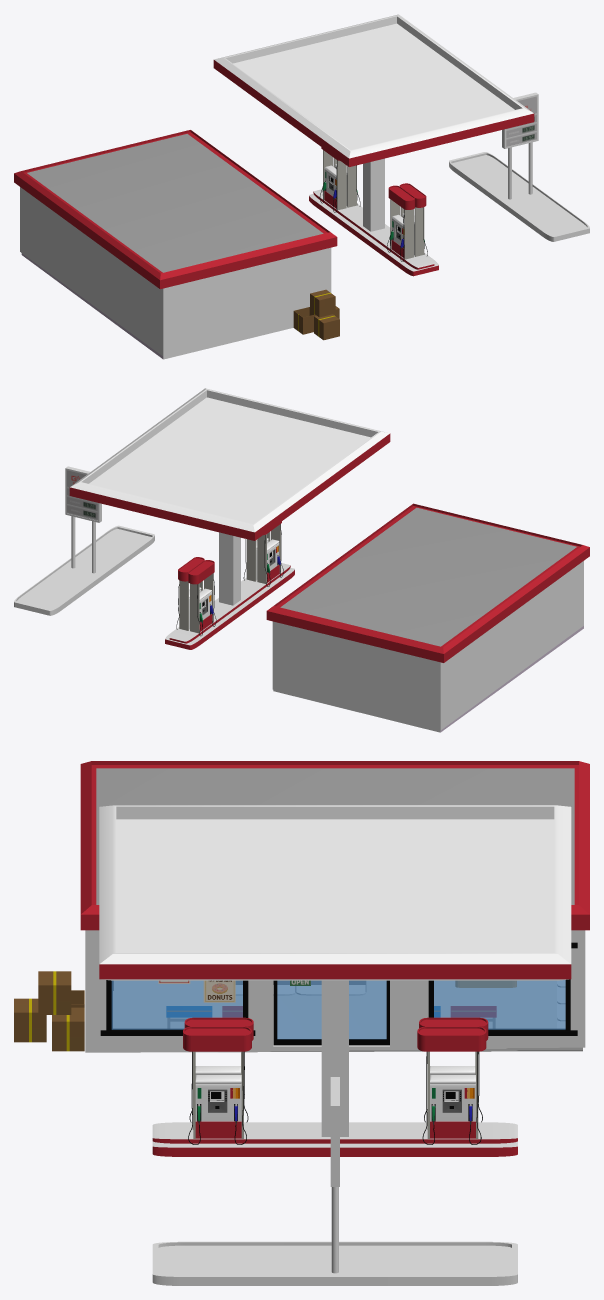
Rendered from building_gas.glb.
3 renders of one model, top to bottom at view 1: azimuth 30°, elevation 25°; view 2: azimuth 150°, elevation 25°; view 3: azimuth 270°, elevation 25°, orthographic. The views are drawn at different scales.
Visible parts, largest first — view 1: Store, Gas_Pumps, Sign, Box_Open; view 2: Store, Gas_Pumps, Sign; view 3: Gas_Pumps, Store, Sign, Box_Open, Door2, Door, Shelf.002, DisplayShelf1, Sign2, DisplayShelf2.
Part boxes in pixels (x1,y1,x2,y2): Store: (14, 130, 337, 359); Gas_Pumps: (213, 14, 534, 276); Sign: (449, 92, 589, 241); Box_Open: (293, 289, 339, 340); Store: (266, 503, 589, 732); Gas_Pumps: (69, 388, 390, 649); Sign: (14, 466, 154, 615); Gas_Pumps: (99, 805, 571, 1156); Store: (80, 761, 589, 1052); Sign: (152, 1077, 517, 1285); Box_Open: (14, 971, 84, 1051); Door2: (273, 980, 321, 1045); Door: (349, 980, 389, 1045); Shelf.002: (236, 981, 365, 995); DisplayShelf1: (166, 1006, 242, 1028); Sign2: (203, 980, 235, 1002); DisplayShelf2: (434, 1006, 496, 1028).
Bounding box in the file's own units: 31.11 × 10.17 × 19.65.
Materials: 5 (5 with a texture image).
